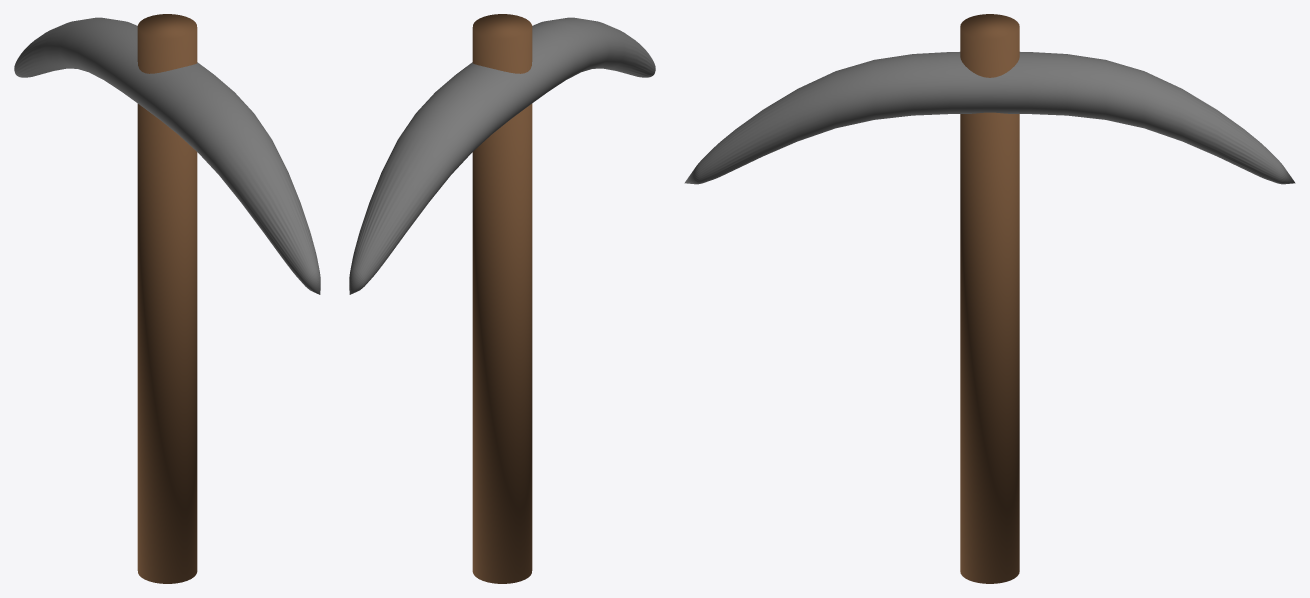
Rendered from csákány.fbx.
3 views of the same model, side by side, from view 1: azimuth 30°, elevation 25°; view 2: azimuth 150°, elevation 25°; view 3: azimuth 270°, elevation 25° (orthographic).
Parts seen in each view (by area): view 1: Csákány; view 2: Csákány; view 3: Csákány.
Part boxes in pixels (x1,y1,x2,y2): Csákány: (14, 14, 320, 583); Csákány: (349, 14, 655, 583); Csákány: (684, 14, 1295, 583).
Size of the model in its own units: 55.95 by 425 by 432.
